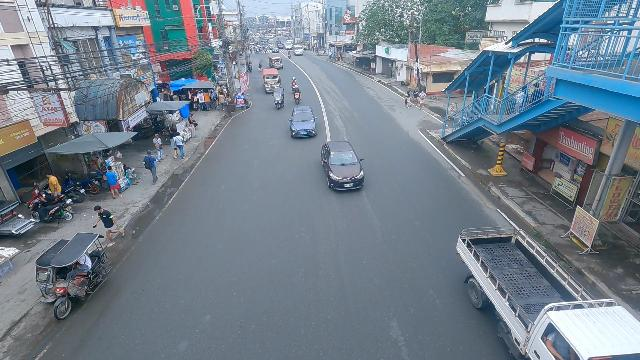car: (320, 141, 366, 192), (288, 106, 319, 138), (271, 46, 278, 53), (277, 43, 284, 49)
jeepney: (261, 68, 282, 93), (268, 55, 284, 69)
motorcycle: (293, 87, 301, 106), (291, 76, 298, 92), (247, 62, 253, 73), (288, 50, 291, 58)
truck: (454, 225, 640, 360)
van: (293, 45, 304, 56)
